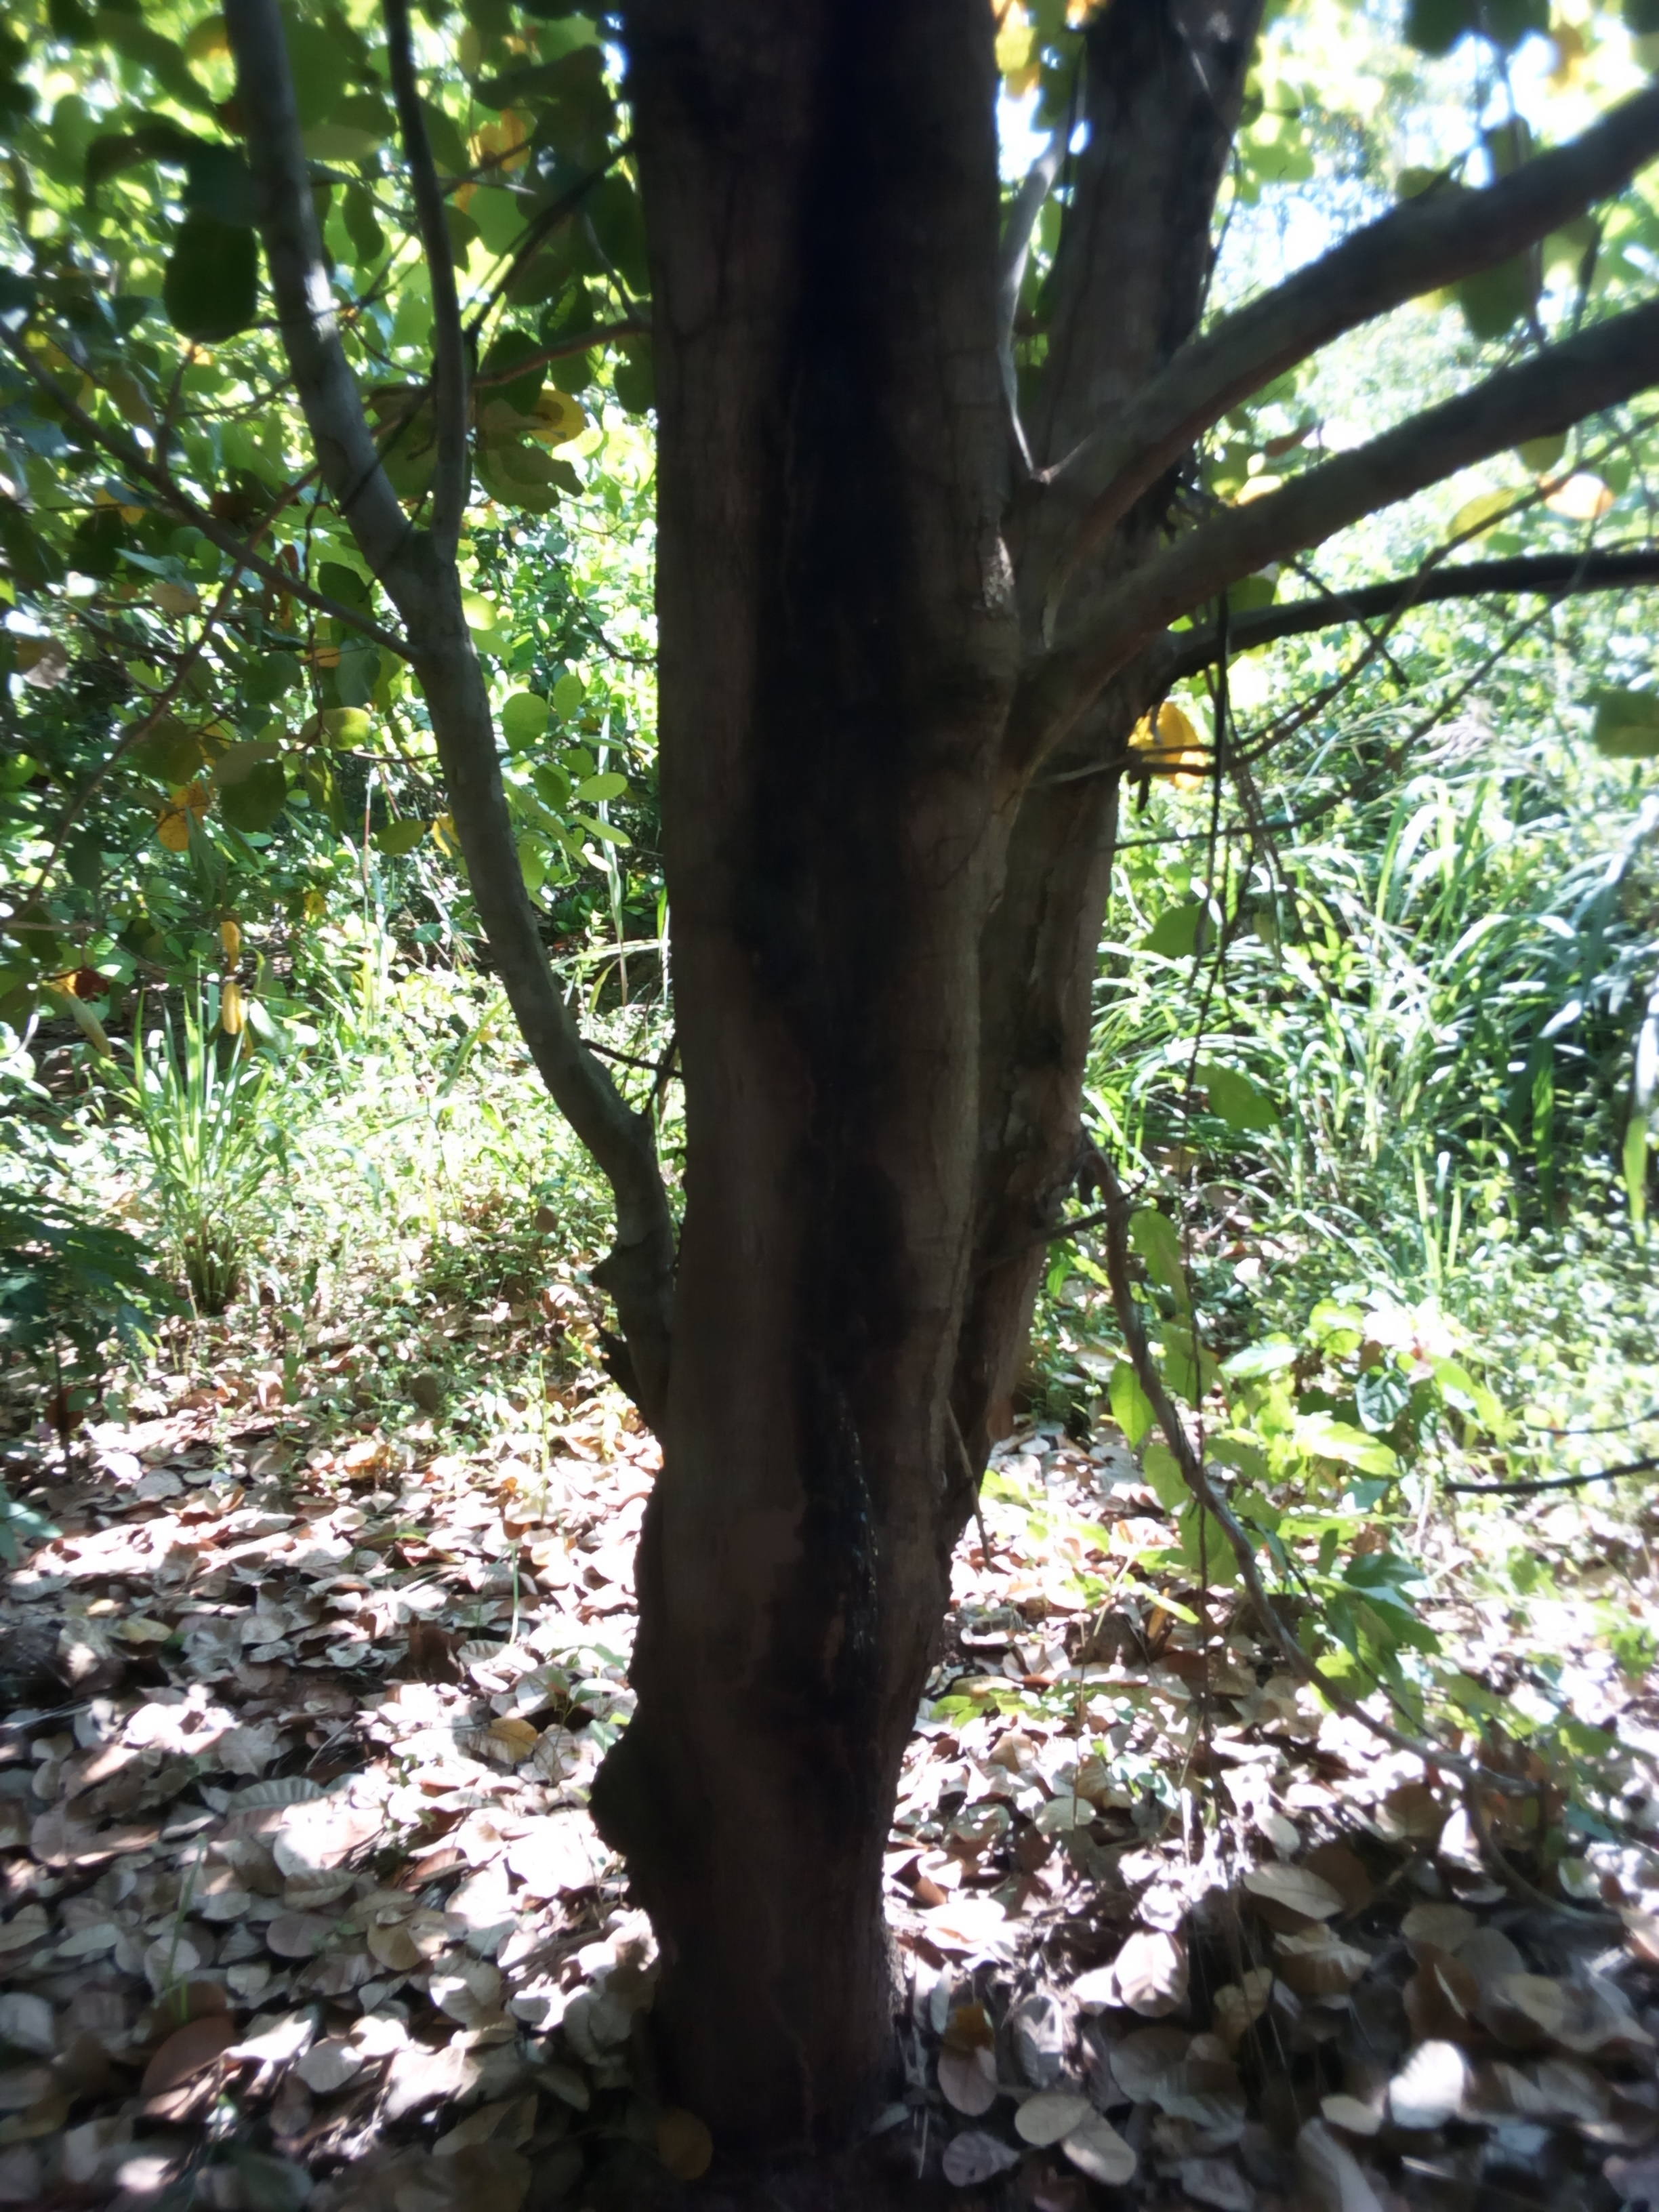Termites: (772, 120, 962, 1944)
